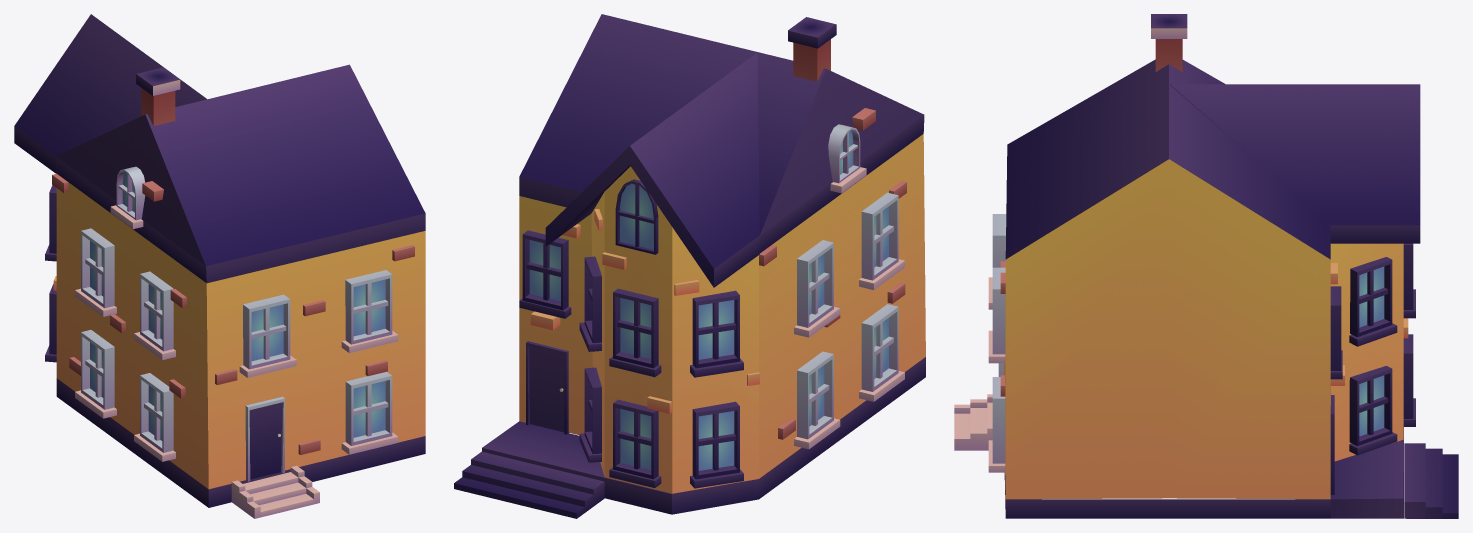
Rendered from SM_House_R_02.fbx.
3 renders of one model, left to right at view 1: azimuth 30°, elevation 25°; view 2: azimuth 150°, elevation 25°; view 3: azimuth 270°, elevation 25°, orthographic. The views are drawn at different scales.
Parts seen in each view (by area): view 1: SM_House_R_02; view 2: SM_House_R_02; view 3: SM_House_R_02.
Boxes of the visible parts, <box> form: SM_House_R_02: <box>14,14,425,518</box>; SM_House_R_02: <box>454,14,925,518</box>; SM_House_R_02: <box>954,14,1458,518</box>.
Size of the model in its own units: 6.98 by 12.22 by 10.61.
